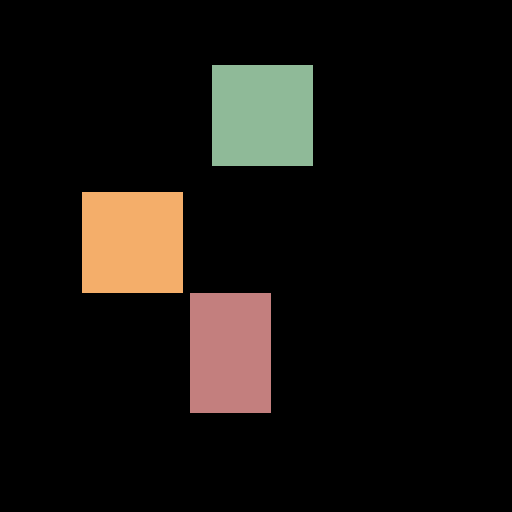rectangle: (190, 293, 270, 412)
square: (82, 192, 182, 292), (212, 65, 312, 165)
